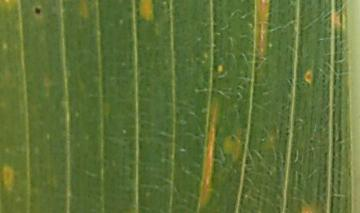tarspot: (32, 5, 43, 16)
